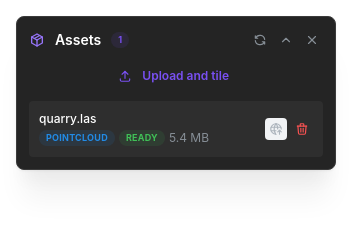
Test case: AssetsPanel › deletes only after the confirmation step
Click the button named "Delete quarry.las" at (302, 129), box [291,118,313,140]
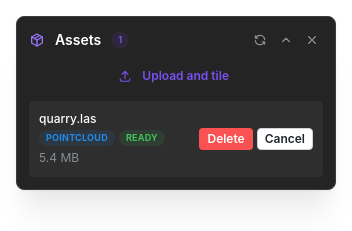
Click the button "Delete" at (226, 139), box [200,128,253,150]
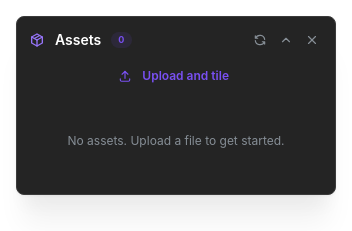
Check: the element with test id "assets-row-a1b2" is gone
